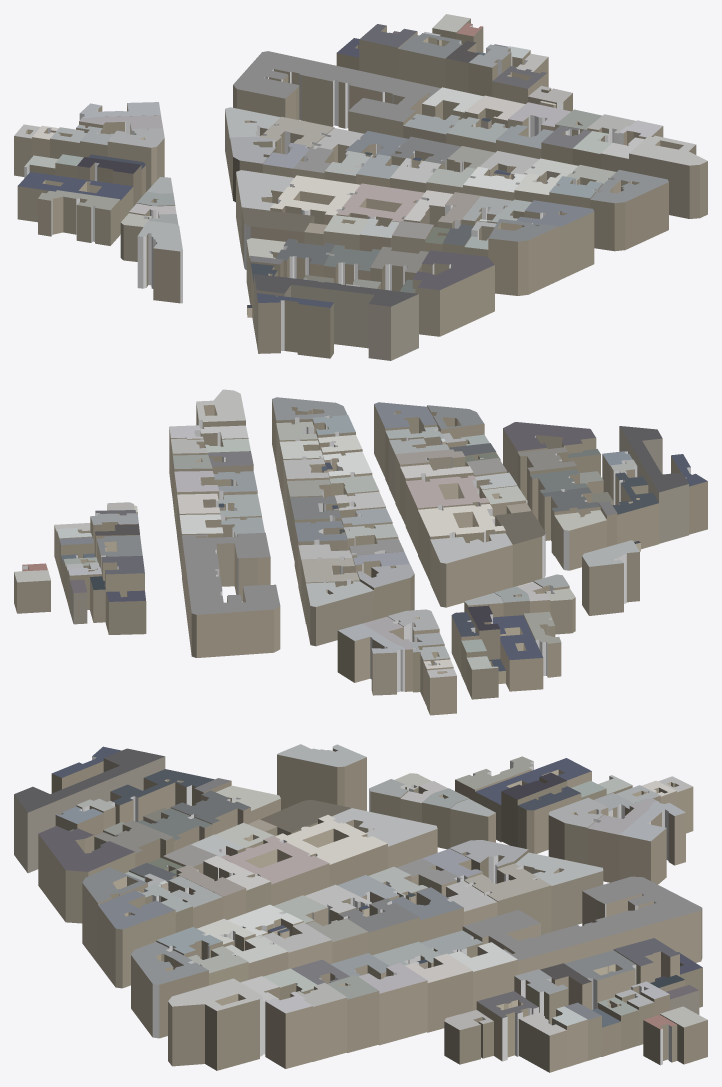
The picture shows the model from 3 angles, top to bottom: view 1: azimuth 30°, elevation 25°; view 2: azimuth 150°, elevation 25°; view 3: azimuth 270°, elevation 25°; orthographic projection. The views are drawn at different scales.
Parts seen in each view (by area): view 1: tuile; view 2: tuile; view 3: tuile.
Part boxes in pixels (left/top/right/bottom): tuile: left=14, top=14, right=707, bottom=360; tuile: left=14, top=389, right=707, bottom=715; tuile: left=14, top=744, right=707, bottom=1072.
Bounding box in the file's own units: 279 × 34.04 × 286.
